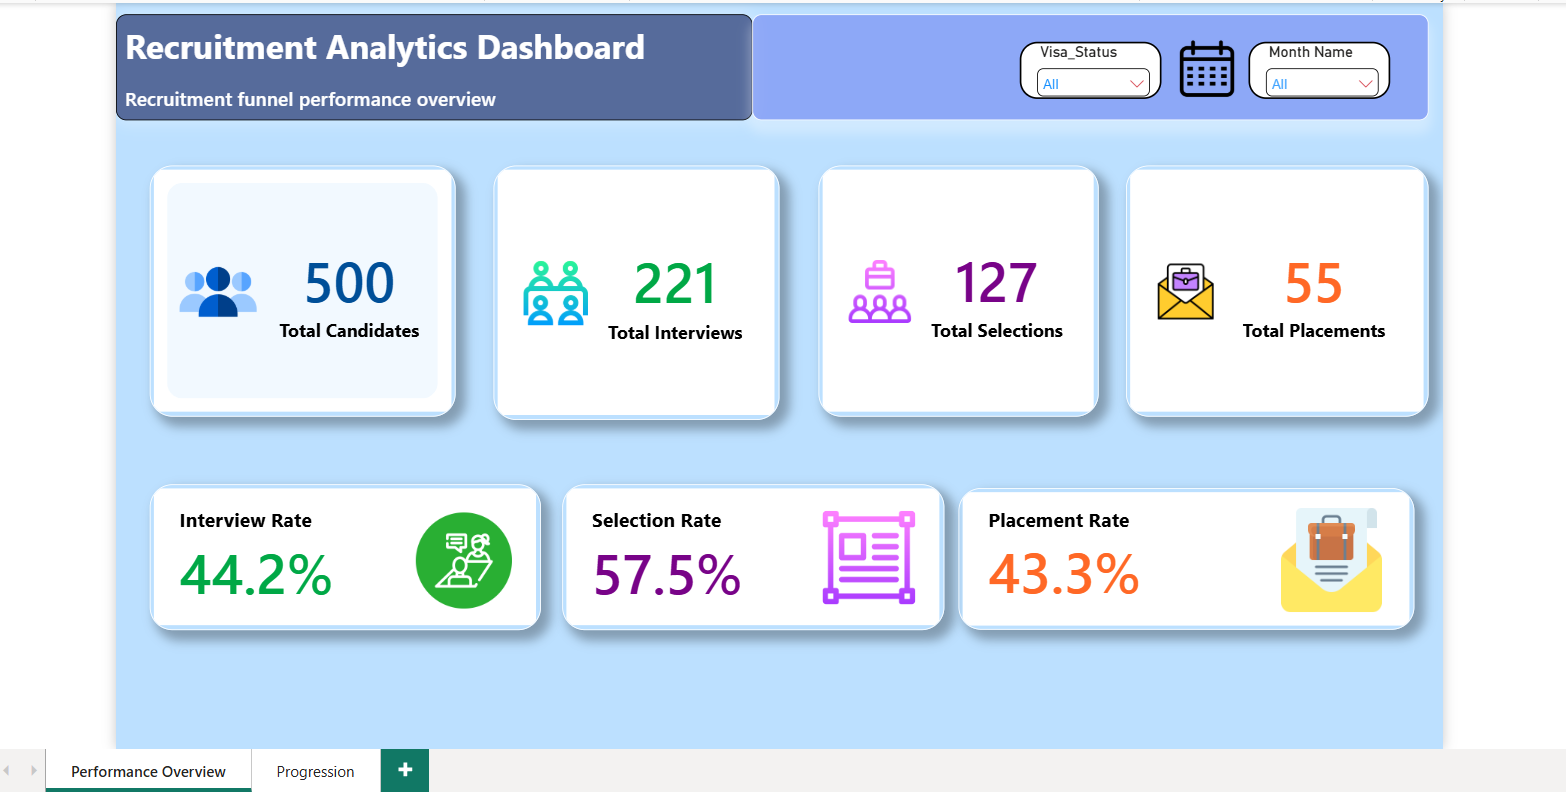

Layout of this report page (visuals, bound fields, positions):
{"tool":"powerbi","page":{"name":"Page 1","canvas":[1280,720],"ordinal":0},"visuals":[{"type":"cardVisual","fields":{"Data":["Candidates.Total Candidates"]},"box":[32,156.6,295.4,242.1],"z":1000},{"type":"cardVisual","fields":{"Data":["Candidates.Total Interviews"]},"box":[364.9,156.6,275.9,245.6],"z":2000},{"type":"cardVisual","fields":{"Data":["Candidates.Total Selections"]},"box":[678.1,156.6,270.5,242.1],"z":3000},{"type":"cardVisual","fields":{"Data":["Candidates.Total Placements"]},"box":[975.3,156.6,291.9,242.1],"z":4000},{"type":"cardVisual","fields":{"Data":["Candidates.Interview Rate"]},"box":[32,464.5,377.3,140.6],"z":5000},{"type":"cardVisual","fields":{"Data":["Candidates.Selection Rate"]},"box":[430.7,464.5,368.4,140.6],"z":6000},{"type":"textbox","box":[16,10.7,1263.6,101.4],"z":7000},{"type":"cardVisual","fields":{"Data":["Candidates.Placement Rate"]},"box":[813.4,468.1,439.6,137],"z":8000}]}

Visuals, with their boxes on the page's 1280x720 design canvas (x1, y1, x2, y2). These are canvas units, not pixel positions in the 1566x792 screenshot, which may show the page scaled, cropped or inside an application window:
cardVisual - Candidates.Total Candidates: (x1=32, y1=157, x2=327, y2=399)
cardVisual - Candidates.Total Interviews: (x1=365, y1=157, x2=641, y2=402)
cardVisual - Candidates.Total Selections: (x1=678, y1=157, x2=949, y2=399)
cardVisual - Candidates.Total Placements: (x1=975, y1=157, x2=1267, y2=399)
cardVisual - Candidates.Interview Rate: (x1=32, y1=464, x2=409, y2=605)
cardVisual - Candidates.Selection Rate: (x1=431, y1=464, x2=799, y2=605)
textbox: (x1=16, y1=11, x2=1280, y2=112)
cardVisual - Candidates.Placement Rate: (x1=813, y1=468, x2=1253, y2=605)
